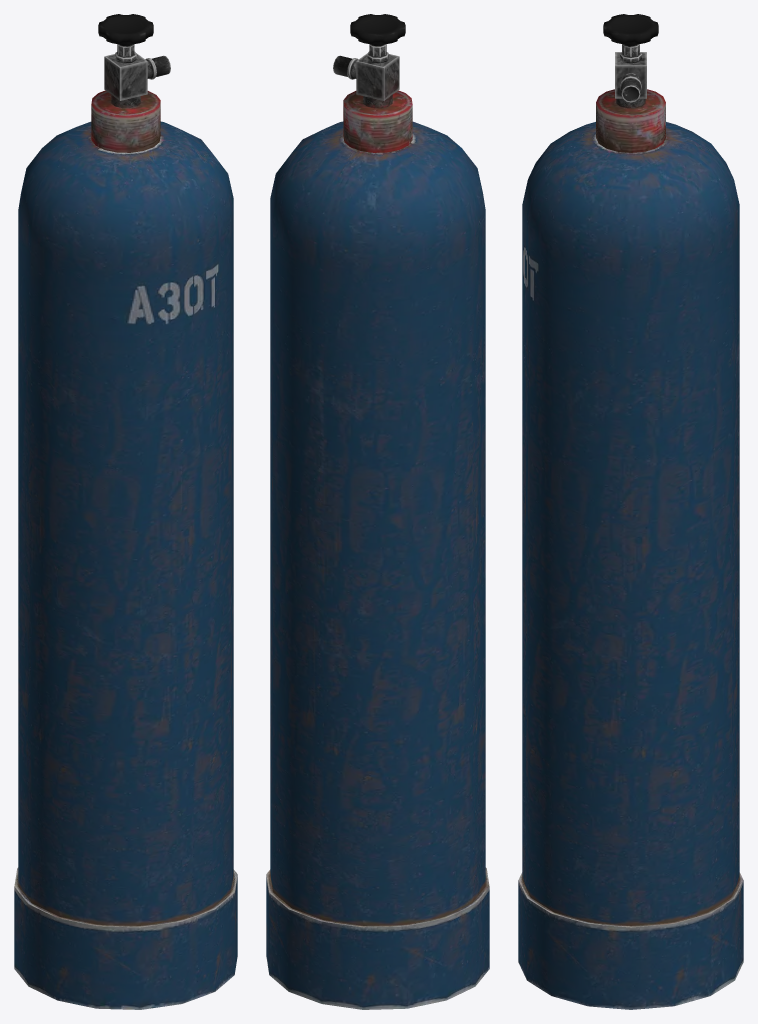
File: azot-opt.glb
3 renders of one model, left to right at view 1: azimuth 30°, elevation 25°; view 2: azimuth 150°, elevation 25°; view 3: azimuth 270°, elevation 25°, orthographic.
Parts seen in each view (by area): view 1: defaultMaterial; view 2: defaultMaterial; view 3: defaultMaterial.
Boxes of the visible parts, <box> form: defaultMaterial: <box>14,14,237,1009</box>; defaultMaterial: <box>266,14,489,1009</box>; defaultMaterial: <box>518,14,743,1009</box>.
Size of the model in its own units: 1.24 by 5.69 by 1.24.
1 material, 1 textured.
